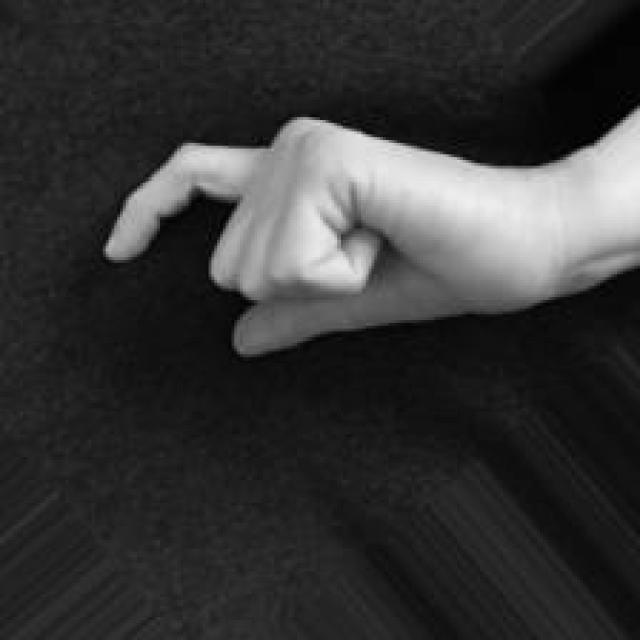C: (101, 112, 564, 366)
